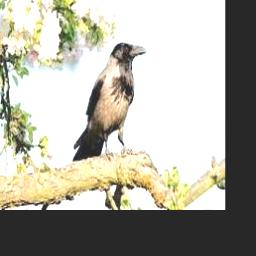Crow: (71, 42, 145, 158)
